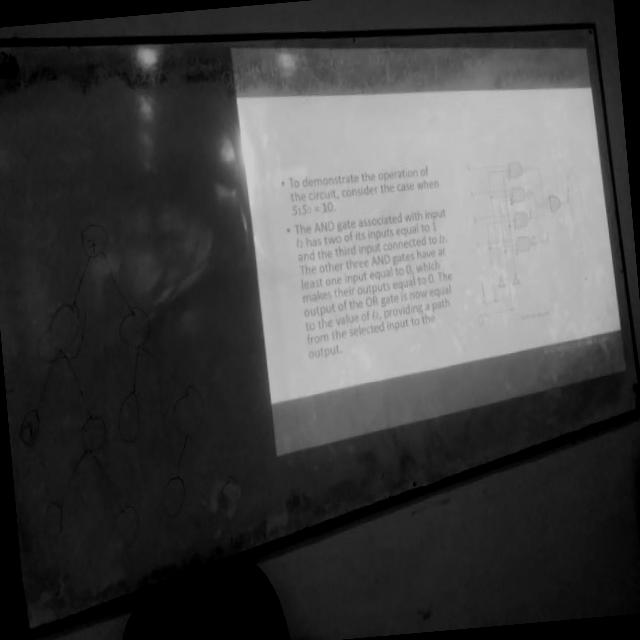Slide: (232, 38, 625, 468)
White-board: (0, 24, 640, 636)
